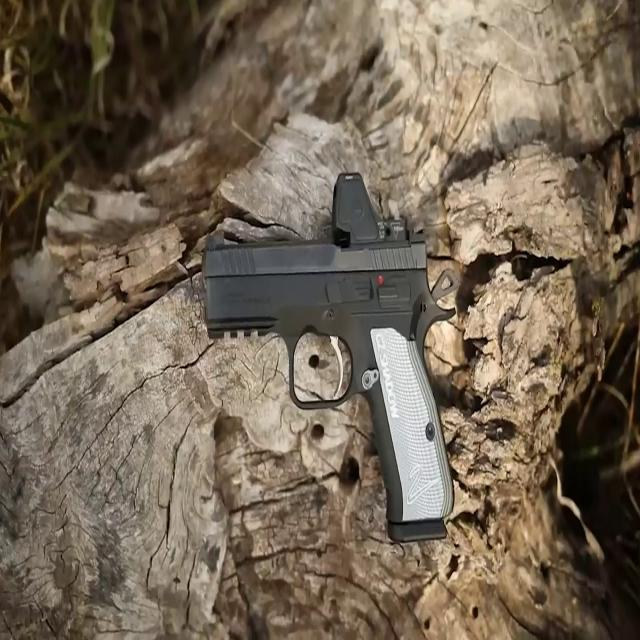Handgun: (192, 169, 469, 560)
